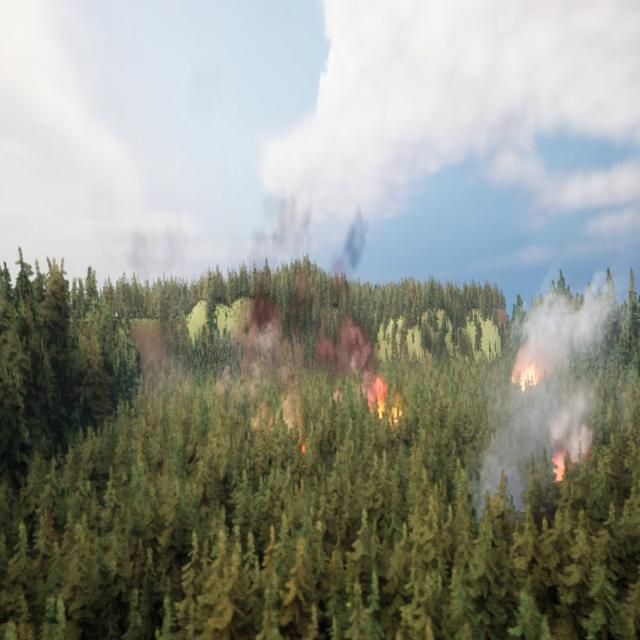fire: (508, 351, 546, 392), (550, 447, 577, 481)
smoke: (479, 265, 621, 527), (244, 195, 383, 388)
